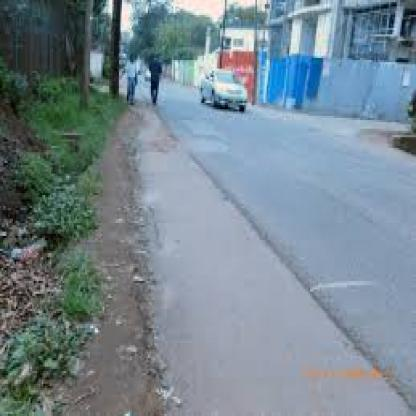car: (196, 44, 266, 129)
